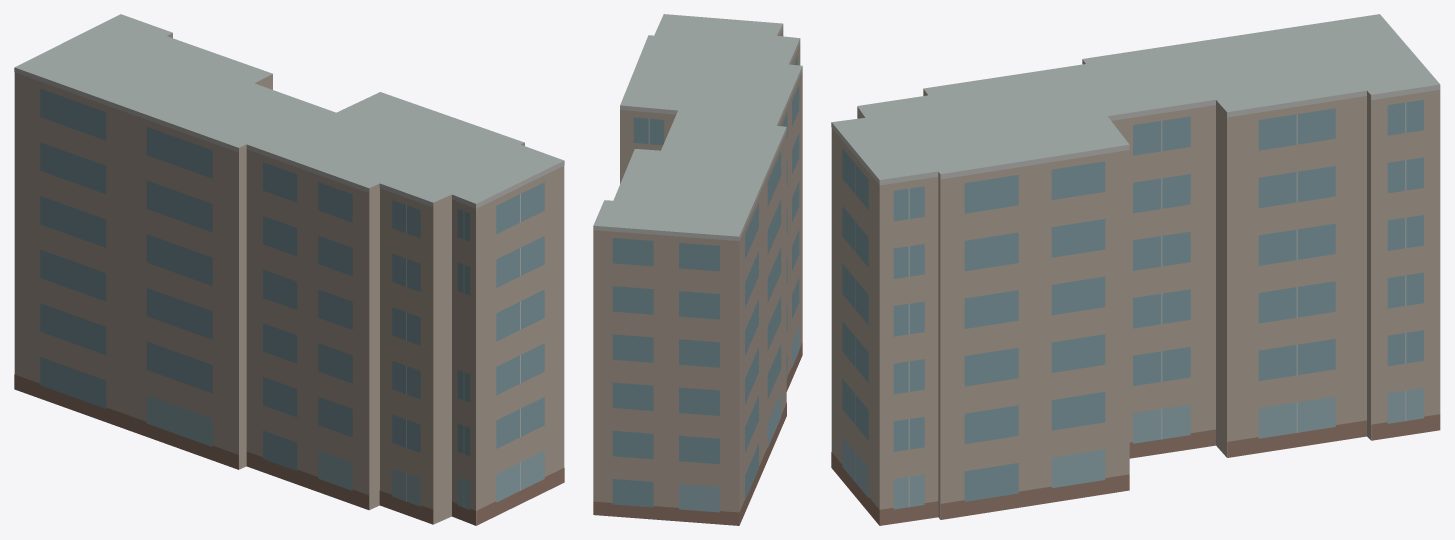
File: survey-upis-32601474.glb
3 renders of one model, left to right at view 1: azimuth 30°, elevation 25°; view 2: azimuth 150°, elevation 25°; view 3: azimuth 270°, elevation 25°, orthographic. The views are drawn at different scales.
Visible parts, largest first — view 1: survey-upis-32601474.tmp; view 2: survey-upis-32601474.tmp; view 3: survey-upis-32601474.tmp.
Boxes of the visible parts, x1,y1,x2,y2 form: survey-upis-32601474.tmp: (14, 14, 564, 525); survey-upis-32601474.tmp: (593, 14, 802, 525); survey-upis-32601474.tmp: (831, 14, 1440, 525).
Size of the model in its own units: 16.6 by 16.1 by 25.7.
